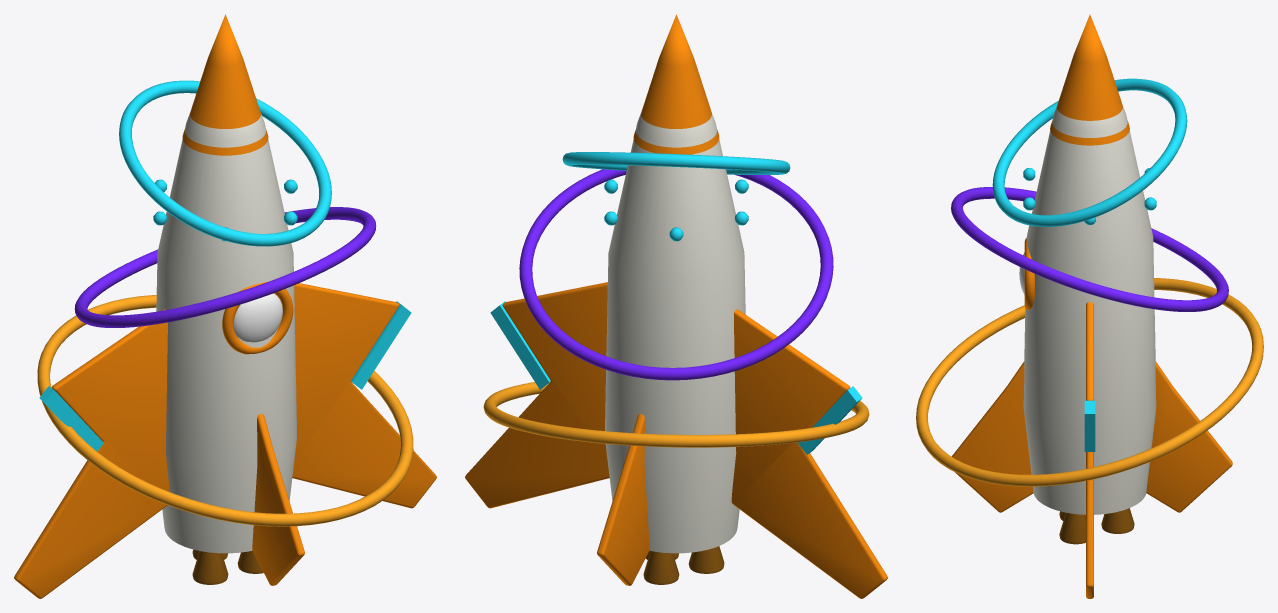
File: Rocket_40_CosmicLegend.obj
3 renders of one model, left to right at view 1: azimuth 30°, elevation 25°; view 2: azimuth 150°, elevation 25°; view 3: azimuth 270°, elevation 25°, orthographic. The views are drawn at different scales.
Parts seen in each view (by area): view 1: R40_Body, R40_CrystalWing_2, R40_CrystalWing, R40_OrbitRing, R40_OrbitRing_3, R40_OrbitRing_2, R40_Nose, R40_Fin_2, R40_StarCore, R40_StarFrame, R40_WingGlow, R40_WingGlow_2 (+1 smaller); view 2: R40_Body, R40_CrystalWing_2, R40_CrystalWing, R40_OrbitRing_2, R40_OrbitRing, R40_Nose, R40_Fin, R40_OrbitRing_3, R40_WingGlow, R40_WingGlow_2, R40_Nozzle, R40_Nozzle_2; view 3: R40_Body, R40_OrbitRing, R40_Fin, R40_Fin_2, R40_OrbitRing_2, R40_OrbitRing_3, R40_Nose, R40_CrystalWing, R40_Nozzle_3, R40_Nozzle, R40_WingGlow, R40_StarFrame.
Boxes of the visible parts, x1=… form: R40_Body: x1=156, y1=113, x2=296, y2=553; R40_CrystalWing_2: x1=14, y1=309, x2=169, y2=598; R40_CrystalWing: x1=292, y1=283, x2=436, y2=508; R40_OrbitRing: x1=37, y1=295, x2=413, y2=526; R40_OrbitRing_3: x1=119, y1=80, x2=331, y2=246; R40_OrbitRing_2: x1=74, y1=207, x2=376, y2=327; R40_Nose: x1=182, y1=14, x2=268, y2=155; R40_Fin_2: x1=252, y1=413, x2=304, y2=585; R40_StarCore: x1=233, y1=294, x2=282, y2=342; R40_StarFrame: x1=222, y1=281, x2=293, y2=354; R40_WingGlow: x1=351, y1=301, x2=411, y2=389; R40_WingGlow_2: x1=39, y1=386, x2=103, y2=451; R40_Body: x1=605, y1=113, x2=745, y2=553; R40_CrystalWing_2: x1=731, y1=309, x2=887, y2=598; R40_CrystalWing: x1=465, y1=282, x2=609, y2=508; R40_OrbitRing_2: x1=519, y1=169, x2=833, y2=380; R40_OrbitRing: x1=483, y1=382, x2=869, y2=447; R40_Nose: x1=633, y1=14, x2=719, y2=154; R40_Fin: x1=597, y1=413, x2=649, y2=585; R40_OrbitRing_3: x1=562, y1=152, x2=790, y2=174; R40_WingGlow: x1=490, y1=301, x2=550, y2=389; R40_WingGlow_2: x1=798, y1=386, x2=862, y2=454; R40_Nozzle: x1=643, y1=551, x2=679, y2=584; R40_Nozzle_2: x1=688, y1=546, x2=724, y2=573; R40_Body: x1=1023, y1=105, x2=1156, y2=514; R40_OrbitRing: x1=916, y1=278, x2=1263, y2=486; R40_Fin: x1=1146, y1=361, x2=1232, y2=512; R40_Fin_2: x1=952, y1=361, x2=1033, y2=512; R40_OrbitRing_2: x1=951, y1=187, x2=1228, y2=311; R40_OrbitRing_3: x1=992, y1=78, x2=1187, y2=226; R40_Nose: x1=1050, y1=14, x2=1129, y2=145; R40_CrystalWing: x1=1086, y1=302, x2=1093, y2=598; R40_Nozzle_3: x1=1059, y1=512, x2=1085, y2=544; R40_Nozzle: x1=1101, y1=508, x2=1134, y2=533; R40_WingGlow: x1=1084, y1=400, x2=1095, y2=451; R40_StarFrame: x1=1024, y1=238, x2=1035, y2=310.
Size of the model in its own units: 6.77 by 8.5 by 5.22.
